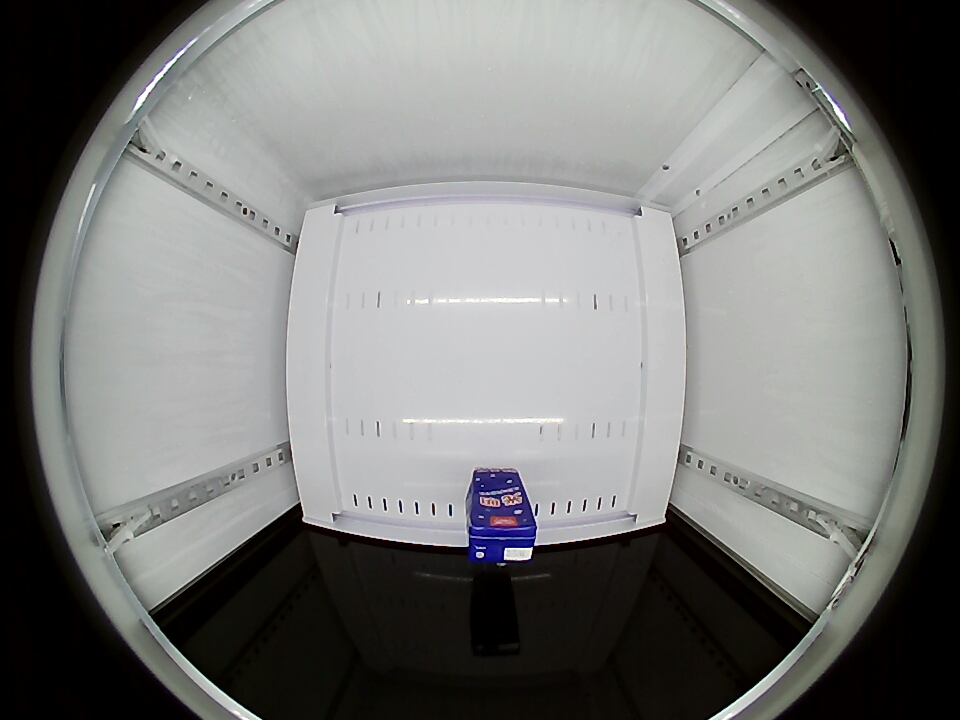bingqilinniunai: (467, 503, 538, 563)
